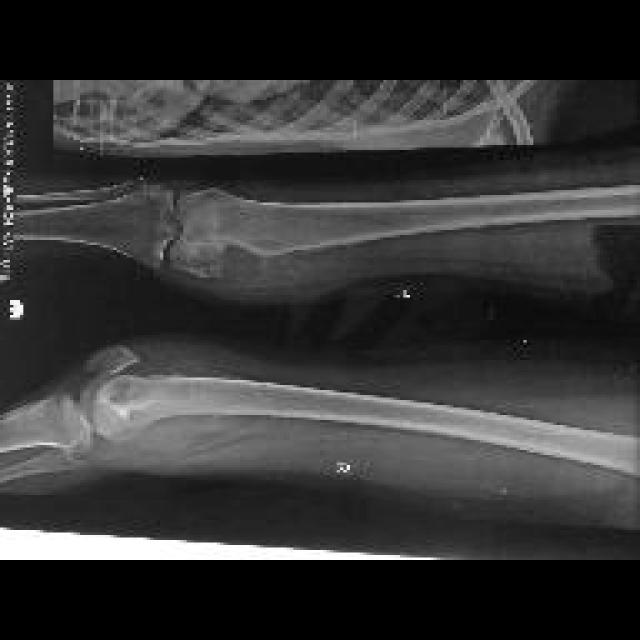bone-cancer: (182, 242, 284, 282), (91, 373, 158, 417)
